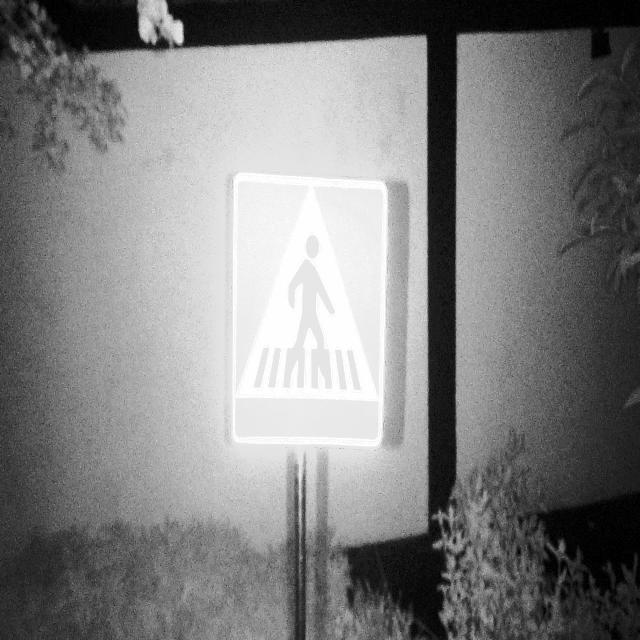Sign: (229, 166, 391, 452)
